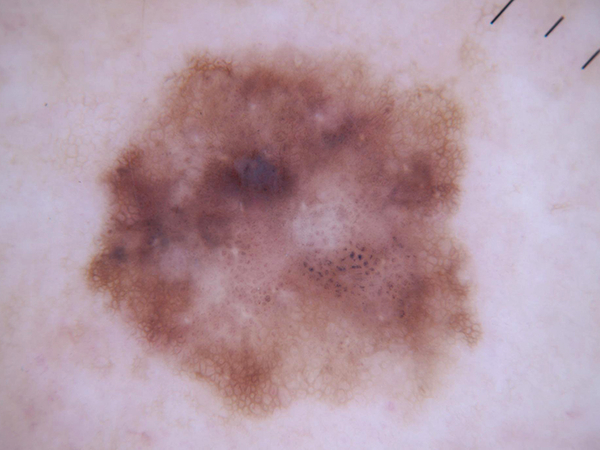Detected Lesion: (81, 52, 481, 421)
